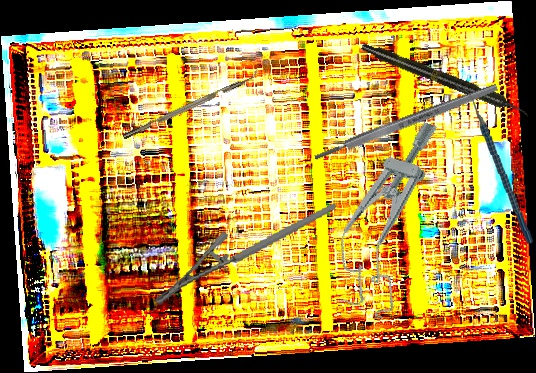Chopper: (455, 81, 534, 248), (119, 66, 262, 140)
Handpiece: (359, 39, 532, 121)
Needle Holder: (143, 203, 348, 307)
Scalpel Handle: (312, 81, 500, 164)
Speculum: (321, 109, 451, 321)
